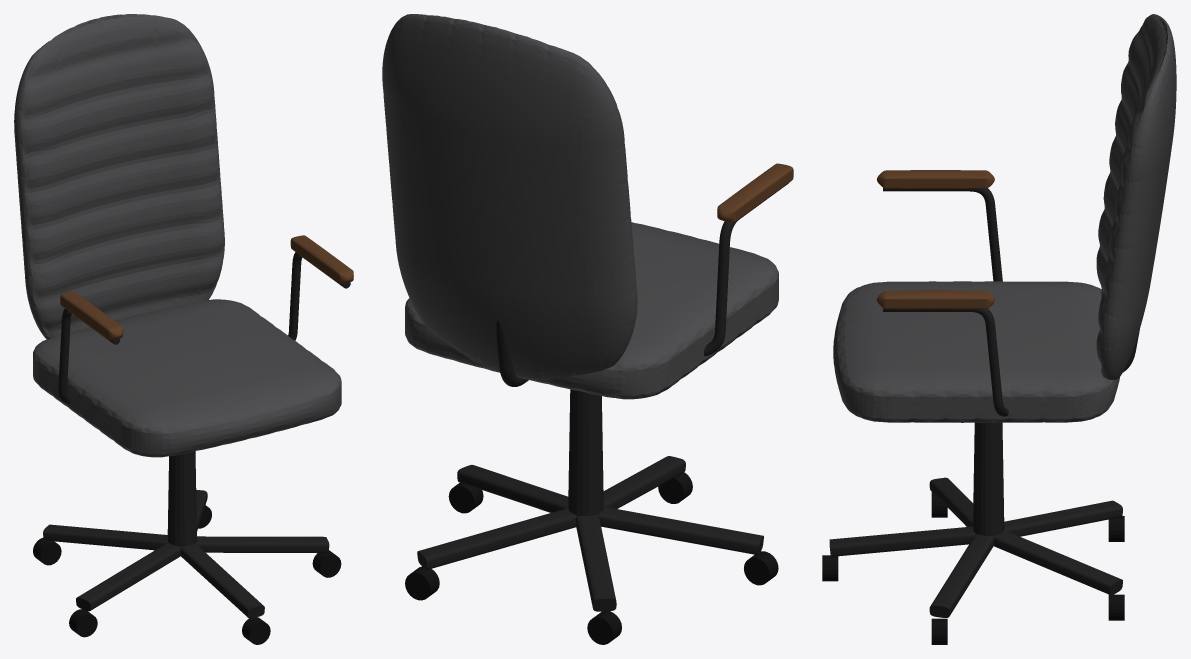
The model's file is axis.glb.
The picture shows the model from 3 angles, left to right: view 1: azimuth 30°, elevation 25°; view 2: azimuth 150°, elevation 25°; view 3: azimuth 270°, elevation 25°; orthographic projection. The views are drawn at different scales.
Parts seen in each view (by area): view 1: back, seat, gaslift, spoke4, spoke1, spoke2, spoke0, armpad-1, armpad1, arm-1, arm1, castor1 (+3 smaller); view 2: back, seat, gaslift, spoke1, spoke3, spoke2, spoke4, armpad-1, spoke0, arm-1, castor2, castor1 (+4 smaller); view 3: seat, back, gaslift, spoke0, spoke3, armpad1, armpad-1, spoke2, spoke4, arm1, arm-1, spoke1.
Part boxes in pixels (x1=…): back: x1=14, y1=14, x2=224, y2=339; seat: x1=33, y1=299, x2=341, y2=457; gaslift: x1=167, y1=451, x2=196, y2=546; spoke4: x1=196, y1=536, x2=329, y2=552; spoke1: x1=76, y1=542, x2=180, y2=611; spoke2: x1=43, y1=524, x2=167, y2=550; spoke0: x1=180, y1=543, x2=264, y2=618; armpad-1: x1=60, y1=291, x2=123, y2=340; armpad1: x1=290, y1=235, x2=353, y2=283; arm-1: x1=58, y1=308, x2=120, y2=403; arm1: x1=288, y1=252, x2=350, y2=340; castor1: x1=69, y1=609, x2=97, y2=637; back: x1=382, y1=14, x2=637, y2=380; seat: x1=405, y1=222, x2=778, y2=399; gaslift: x1=568, y1=389, x2=603, y2=515; spoke1: x1=598, y1=506, x2=763, y2=555; spoke3: x1=417, y1=508, x2=576, y2=569; spoke2: x1=576, y1=515, x2=616, y2=611; spoke4: x1=457, y1=465, x2=568, y2=512; armpad-1: x1=717, y1=163, x2=793, y2=222; spoke0: x1=603, y1=456, x2=685, y2=508; arm-1: x1=704, y1=183, x2=788, y2=356; castor2: x1=587, y1=611, x2=621, y2=644; castor1: x1=744, y1=551, x2=778, y2=585; seat: x1=833, y1=281, x2=1119, y2=422; back: x1=1096, y1=14, x2=1176, y2=379; gaslift: x1=973, y1=422, x2=1004, y2=536; spoke0: x1=829, y1=526, x2=975, y2=556; spoke3: x1=993, y1=530, x2=1122, y2=595; armpad1: x1=877, y1=290, x2=994, y2=309; armpad-1: x1=877, y1=170, x2=994, y2=188; spoke2: x1=1004, y1=500, x2=1122, y2=536; spoke4: x1=929, y1=534, x2=993, y2=617; arm1: x1=883, y1=308, x2=1008, y2=416; arm-1: x1=883, y1=188, x2=1002, y2=281; spoke1: x1=929, y1=477, x2=973, y2=526.
Bounding box in the file's own units: 0.6206 × 1.14 × 0.6712.
